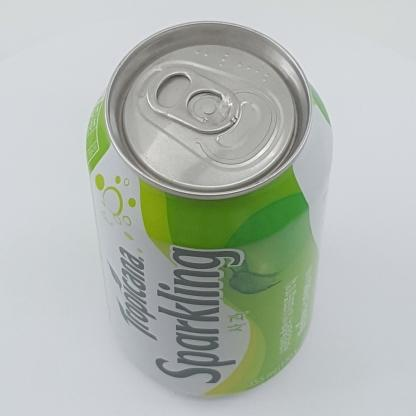-------------355ML: (85, 21, 333, 399)
